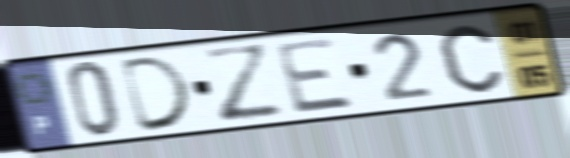0: (65, 58, 127, 140)
2: (370, 32, 437, 104)
C: (436, 22, 507, 96)
D: (118, 52, 198, 135)
E: (272, 34, 359, 117)
Z: (197, 41, 289, 127)
